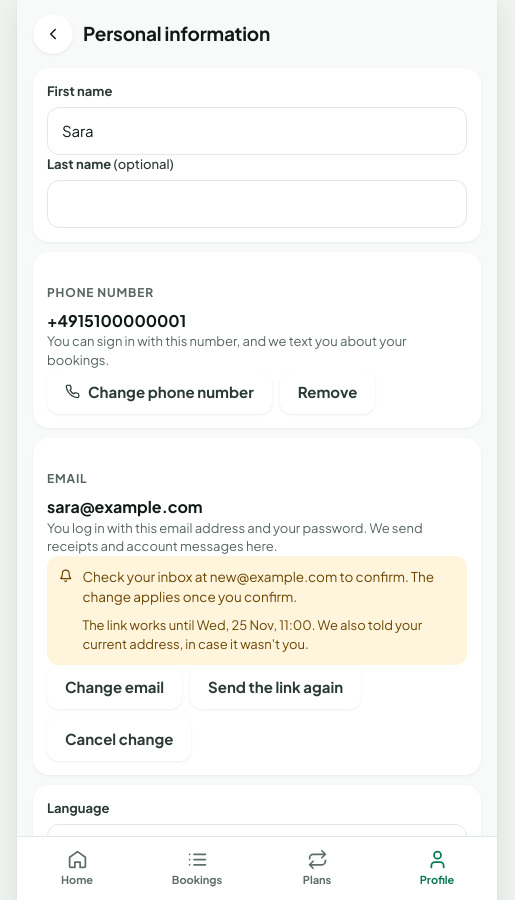
Scenario: Change email › sends the link again and cancels a waiting change
Expected: the text "Check your inbox at new@example.com" is shown, x1=82 y1=568 x2=434 y2=605
Click the button "Send the link again": (276, 687) x1=190 y1=665 x2=361 y2=709
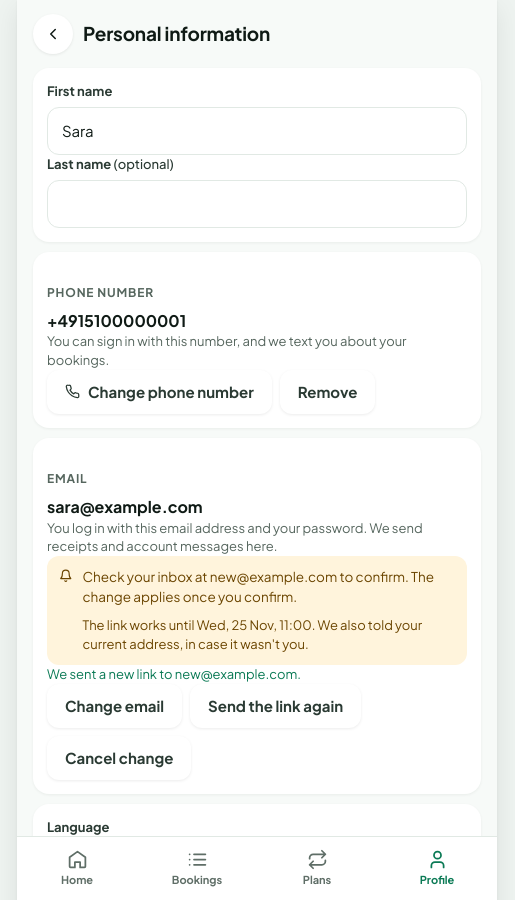
Result: the text "We sent a new link to new@example.com." is shown at x1=47 y1=666 x2=301 y2=682
Click the button "Cancel change": (119, 758) x1=47 y1=736 x2=191 y2=780
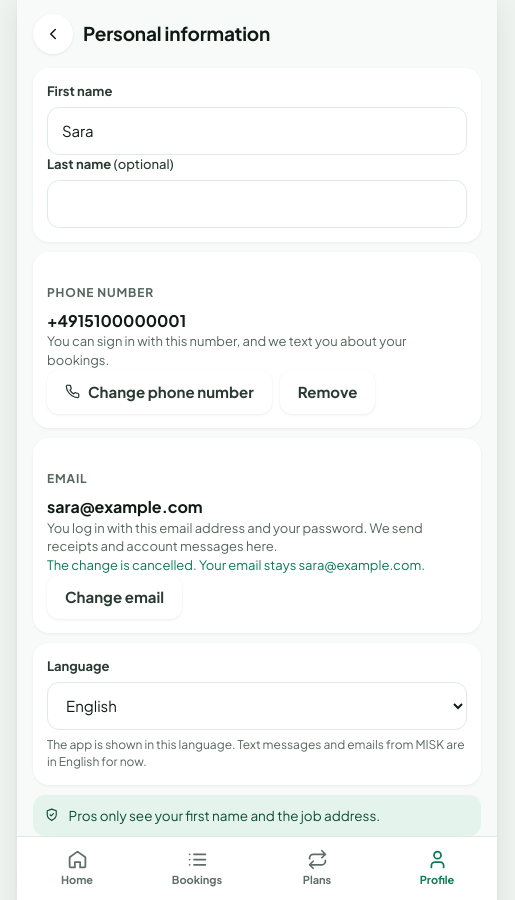
Result: the text "The change is cancelled. Your email stays sara@example.com." is shown at x1=47 y1=556 x2=467 y2=575
Result: the text "Check your inbox" is gone
